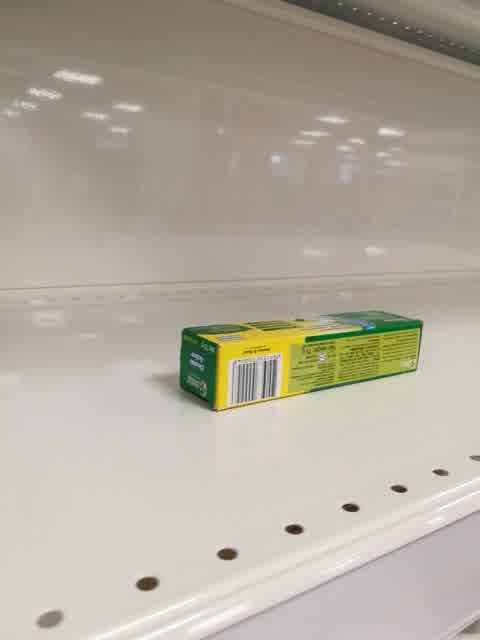toothpaste: (179, 309, 423, 411)
